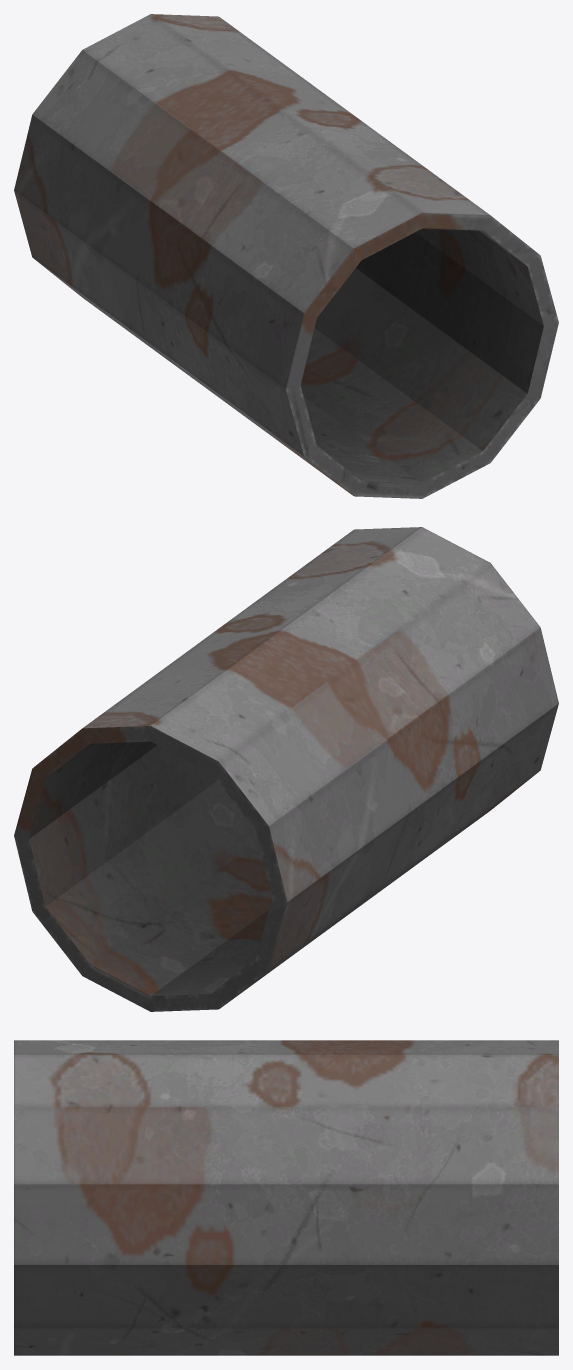
File: IronPipe.glb
3 renders of one model, top to bottom at view 1: azimuth 30°, elevation 25°; view 2: azimuth 150°, elevation 25°; view 3: azimuth 270°, elevation 25°, orthographic.
Visible parts, largest first — view 1: IronPipe; view 2: IronPipe; view 3: IronPipe.
Boxes of the visible parts, box(x1,y1,x2,y2) form: IronPipe: box(14, 14, 558, 498); IronPipe: box(14, 527, 558, 1011); IronPipe: box(14, 1040, 558, 1355).
Bounding box in the file's own units: 0.3711 × 0.3711 × 0.6387.
Materials: 1 (1 with a texture image).
